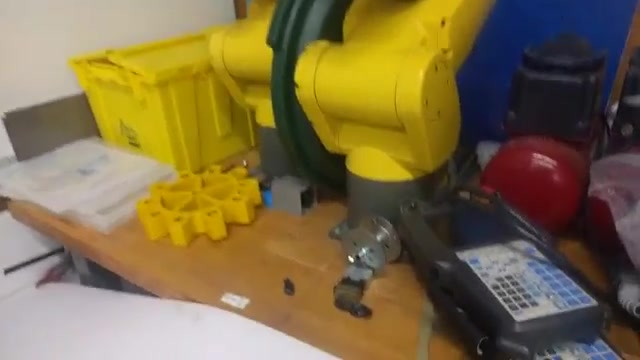gear: (133, 167, 263, 243)
